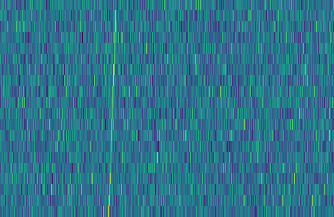signal: (103, 0, 119, 217)
